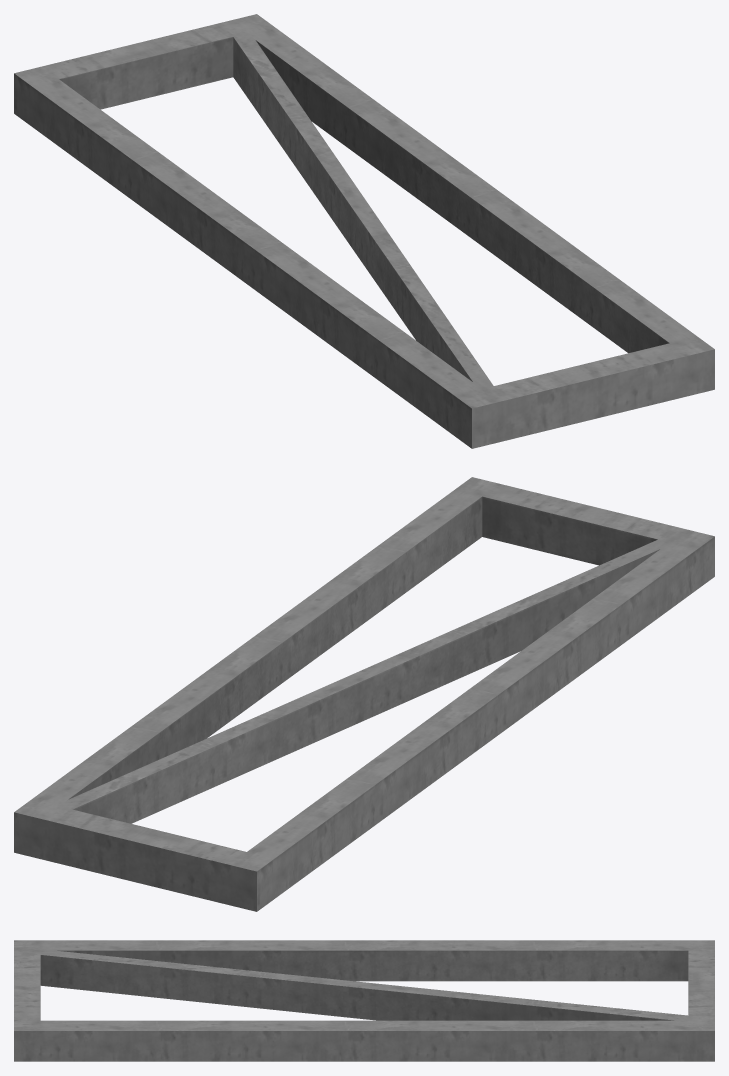
File: metal_support.fbx
3 renders of one model, top to bottom at view 1: azimuth 30°, elevation 25°; view 2: azimuth 150°, elevation 25°; view 3: azimuth 270°, elevation 25°, orthographic. The views are drawn at different scales.
Visible parts, largest first — view 1: Cube.029; view 2: Cube.029; view 3: Cube.029.
Boxes of the visible parts, x1,y1,x2,y2 form: Cube.029: [14, 14, 714, 448]; Cube.029: [14, 477, 714, 911]; Cube.029: [14, 940, 714, 1061].
Size of the model in its own units: 2614 by 415 by 8538.
Materials: 1 (1 with a texture image).
